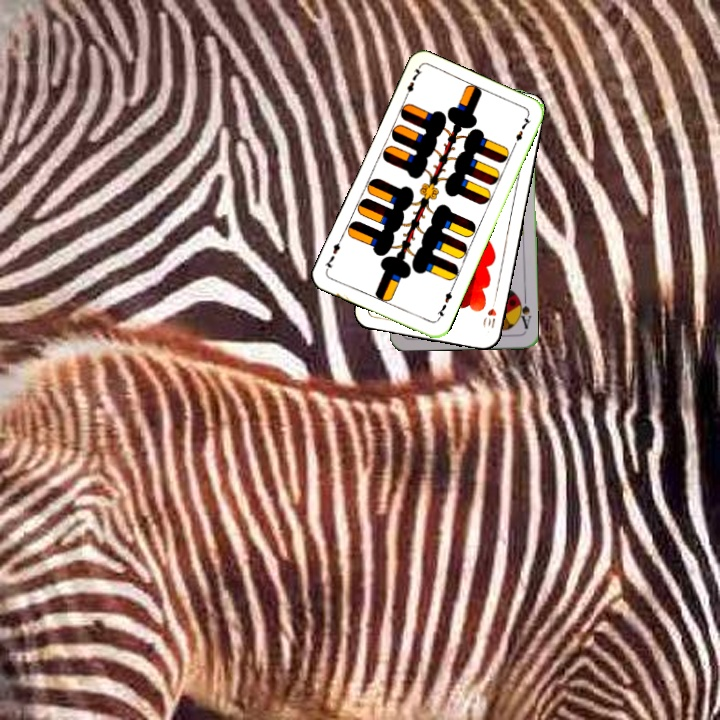E7: (400, 64, 425, 102), (433, 284, 455, 323)
H10: (479, 294, 499, 331)
SA: (513, 292, 533, 331)
